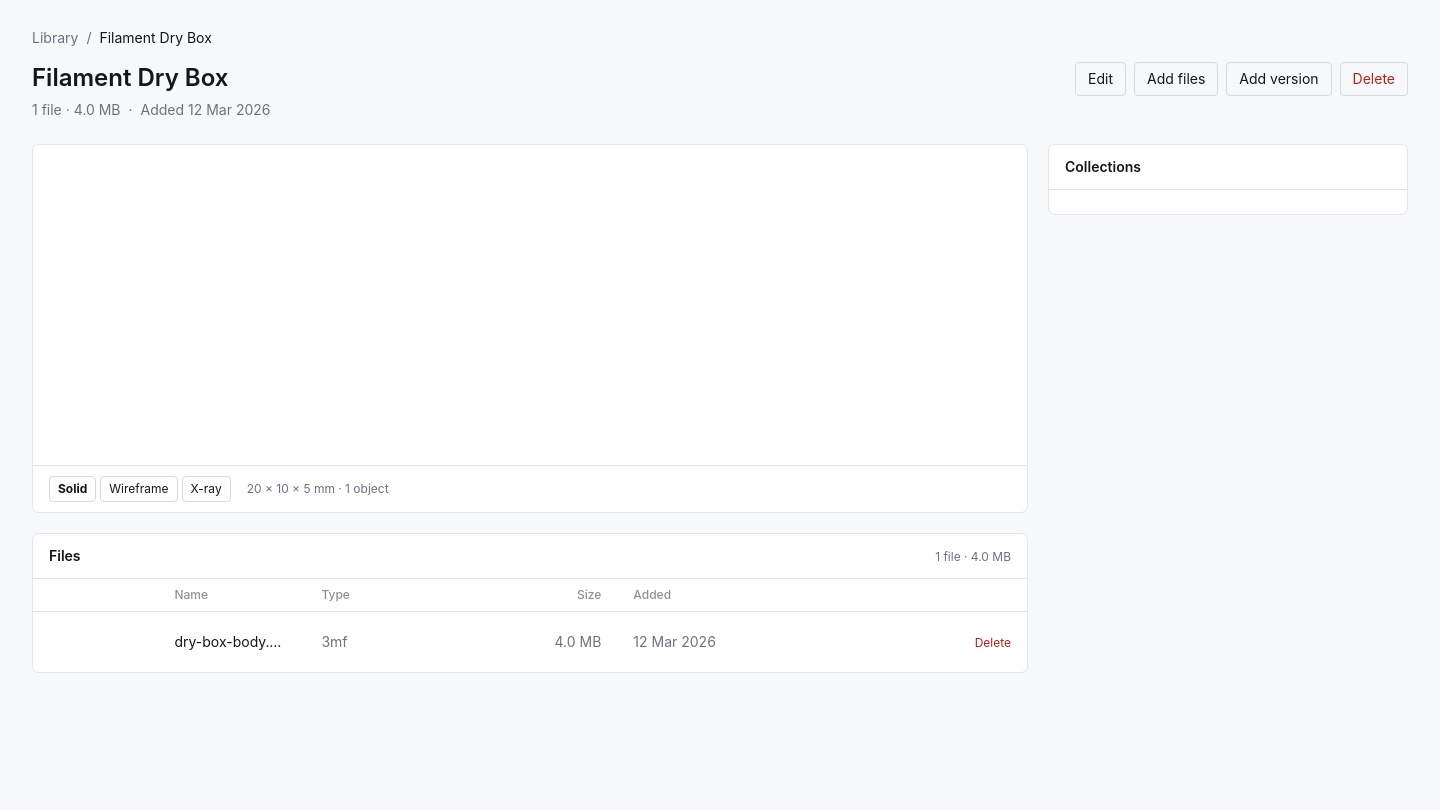
Test case: model detail taxonomy › reports a refused attach without closing the picker
Expected: the heading "Filament Dry Box" is shown, left=32, top=63, right=228, bottom=92
Click the button "Add version" at [1279, 79], box left=1226, top=62, right=1332, bottom=96
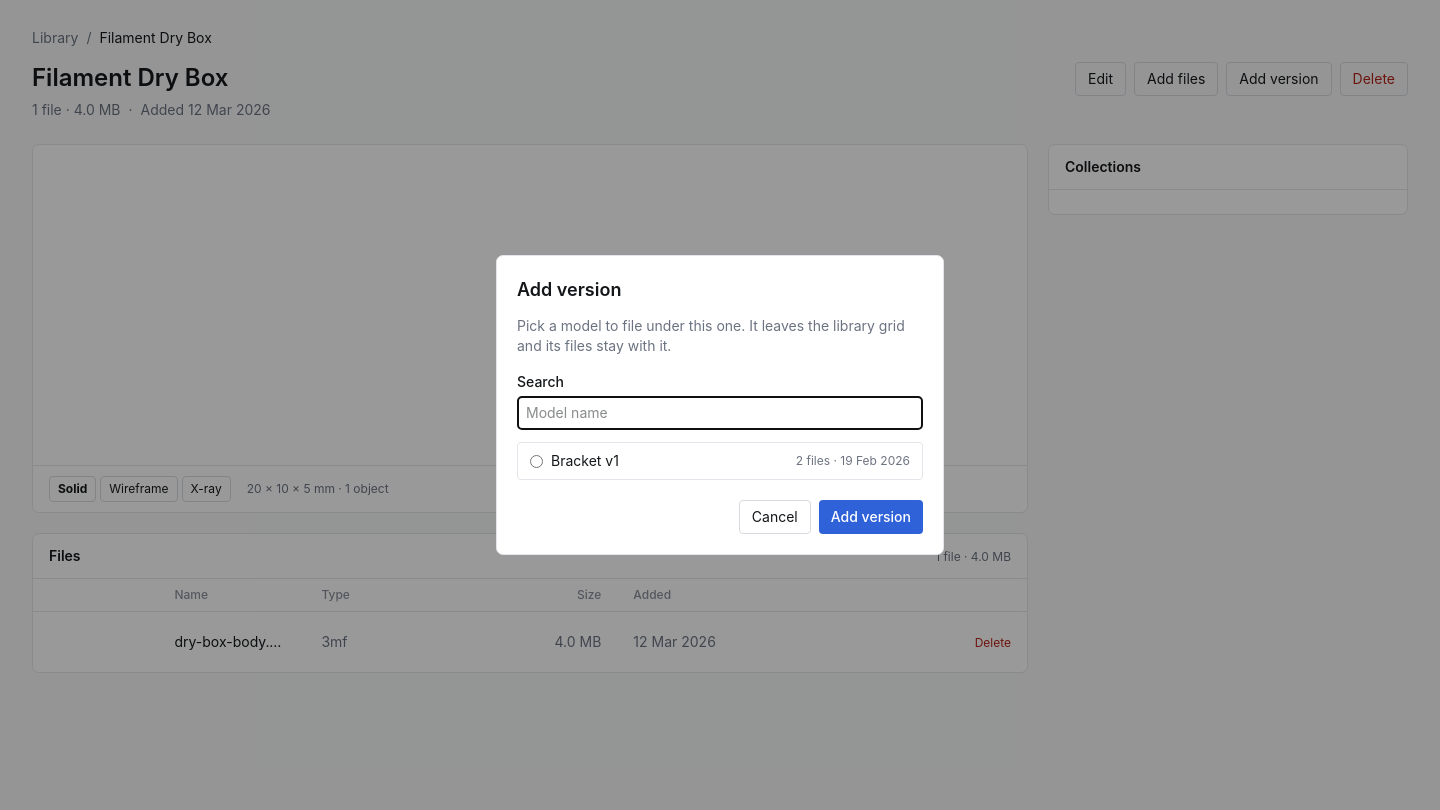
Expected: the radio button labelled "Bracket v1 2 files · 19 Feb 2026" is shown
Click the radio button labelled "Bracket v1 2 files · 19 Feb 2026" at [536, 461], box left=530, top=454, right=543, bottom=468
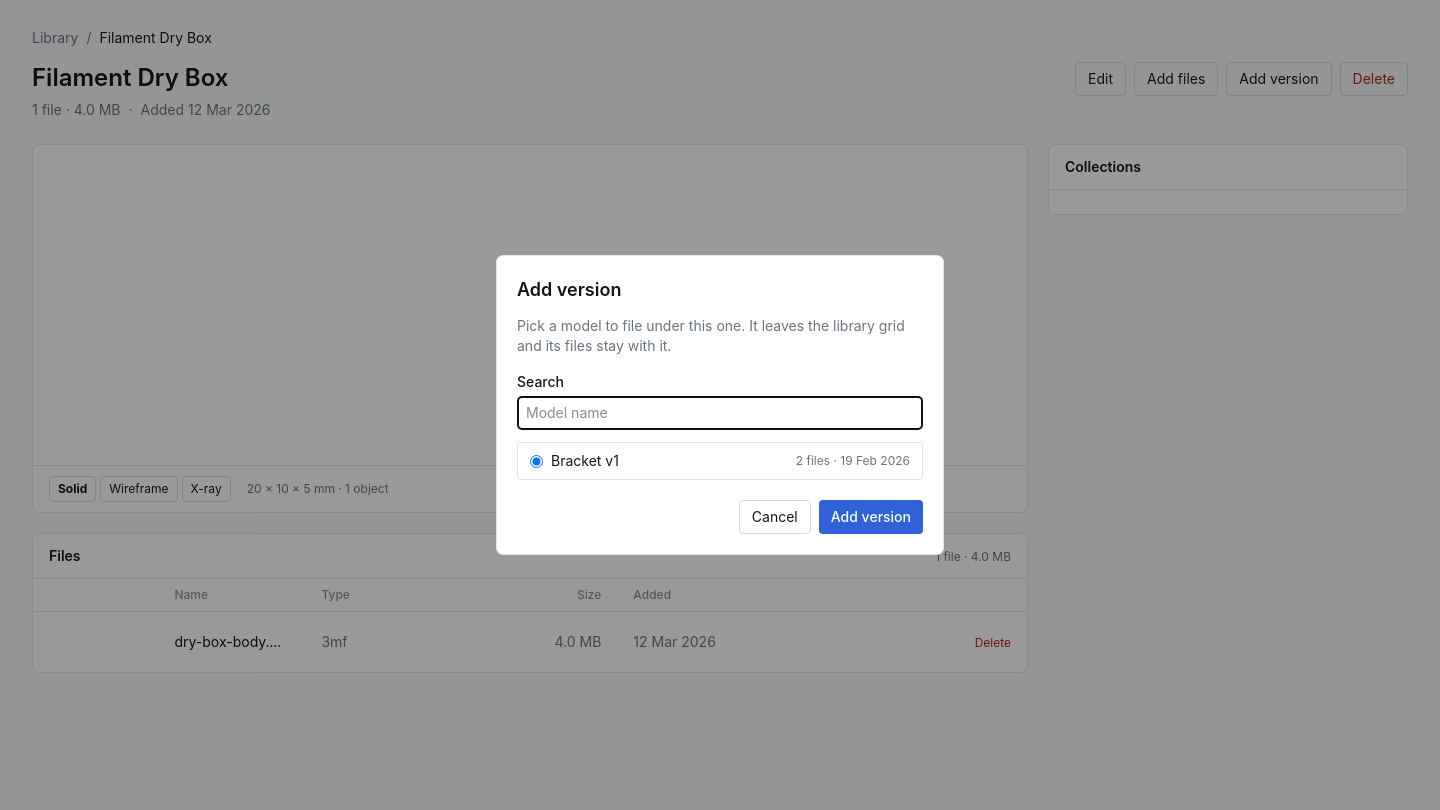
Click the button "Add version" at [871, 517], box left=819, top=500, right=923, bottom=534
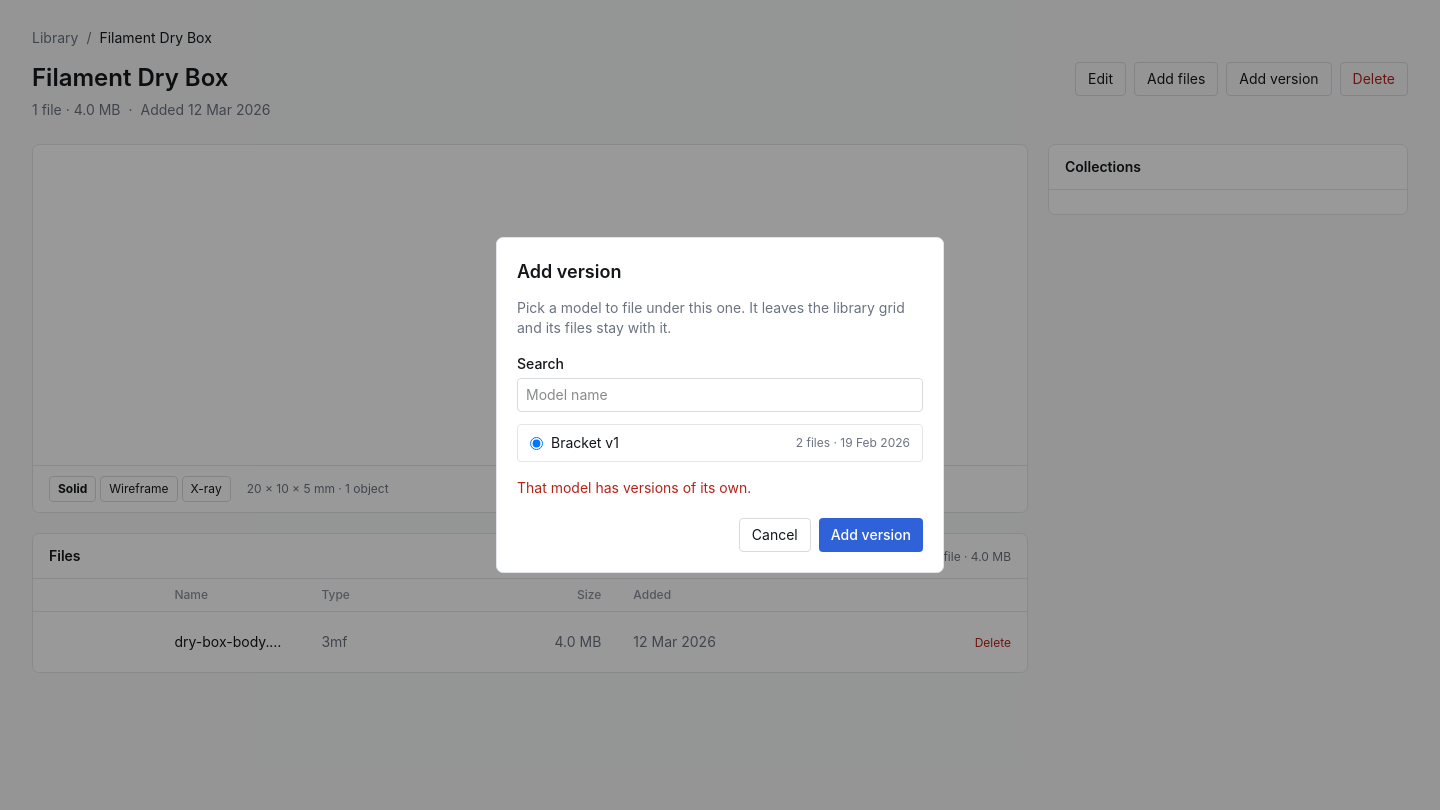
Expected: the dialog is shown, left=496, top=237, right=944, bottom=573
Expected: the message shows "versions of its own", left=517, top=479, right=751, bottom=496
